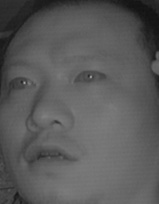eye: (70, 66, 109, 86), (6, 73, 38, 93)
mouth: (24, 136, 79, 173)
